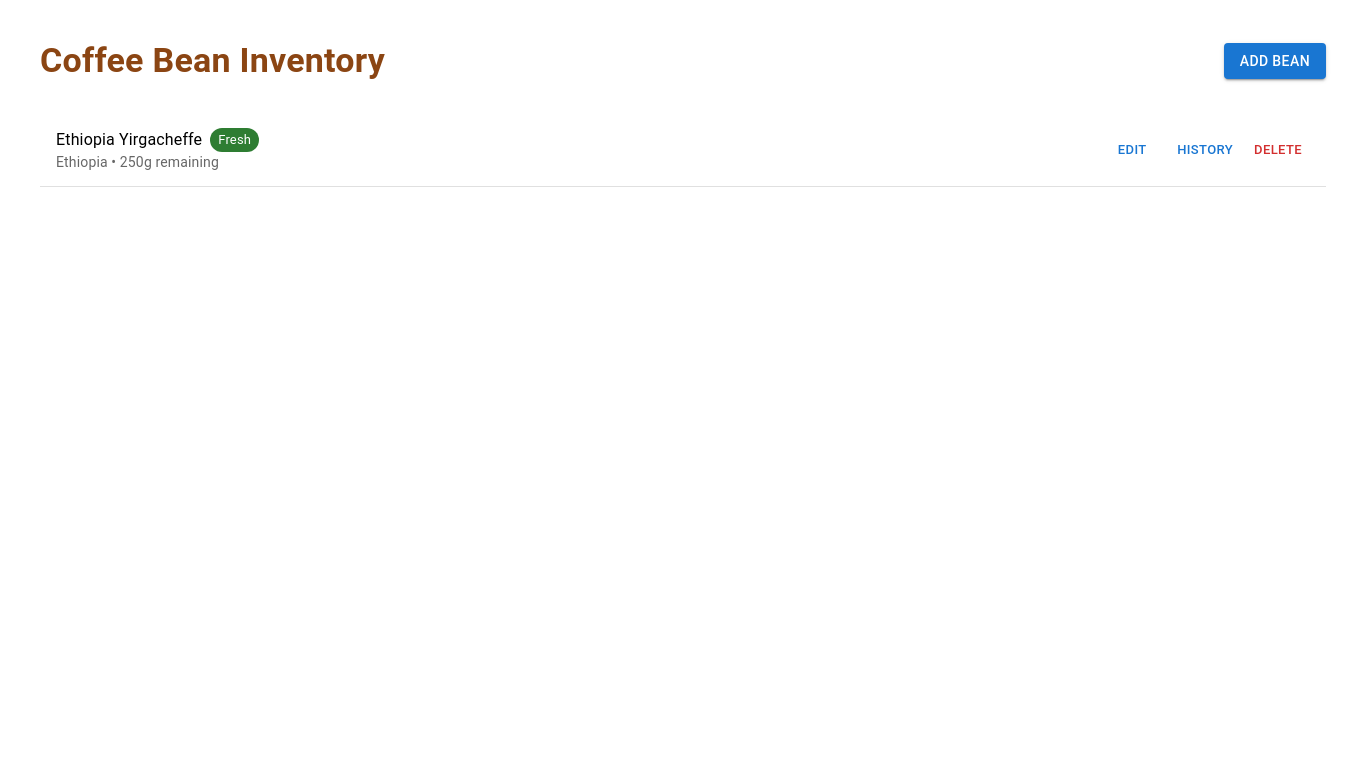
Test: BeanManager › closes the editor with Cancel
Check: the text "Ethiopia Yirgacheffe" is shown, box top-left (56, 128), bottom-right (202, 152)
Click the button "Edit" at (1132, 150), box top-left (1100, 135), bottom-right (1164, 165)
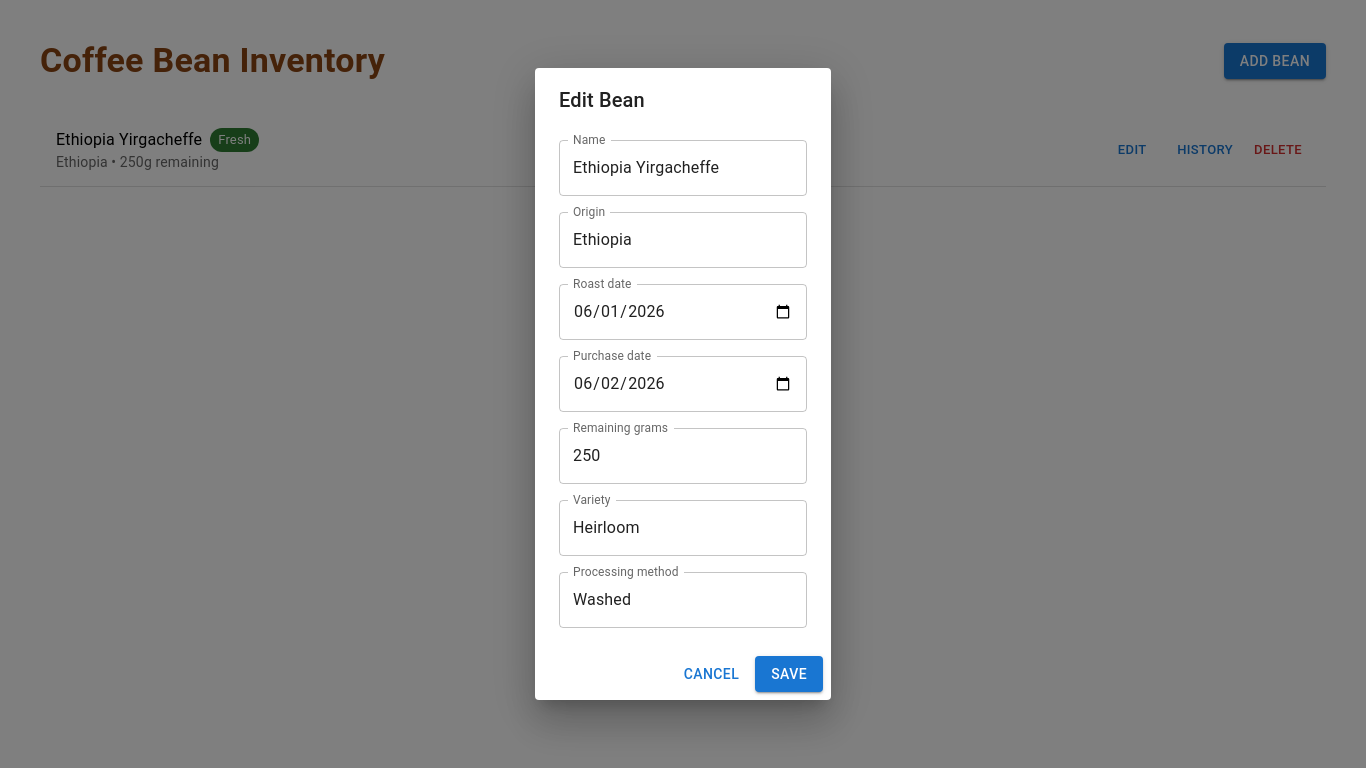
Check: the heading "Edit Bean" is shown, box top-left (559, 88), bottom-right (645, 112)
Click the button "Cancel" at (711, 674), box top-left (676, 656), bottom-right (747, 692)
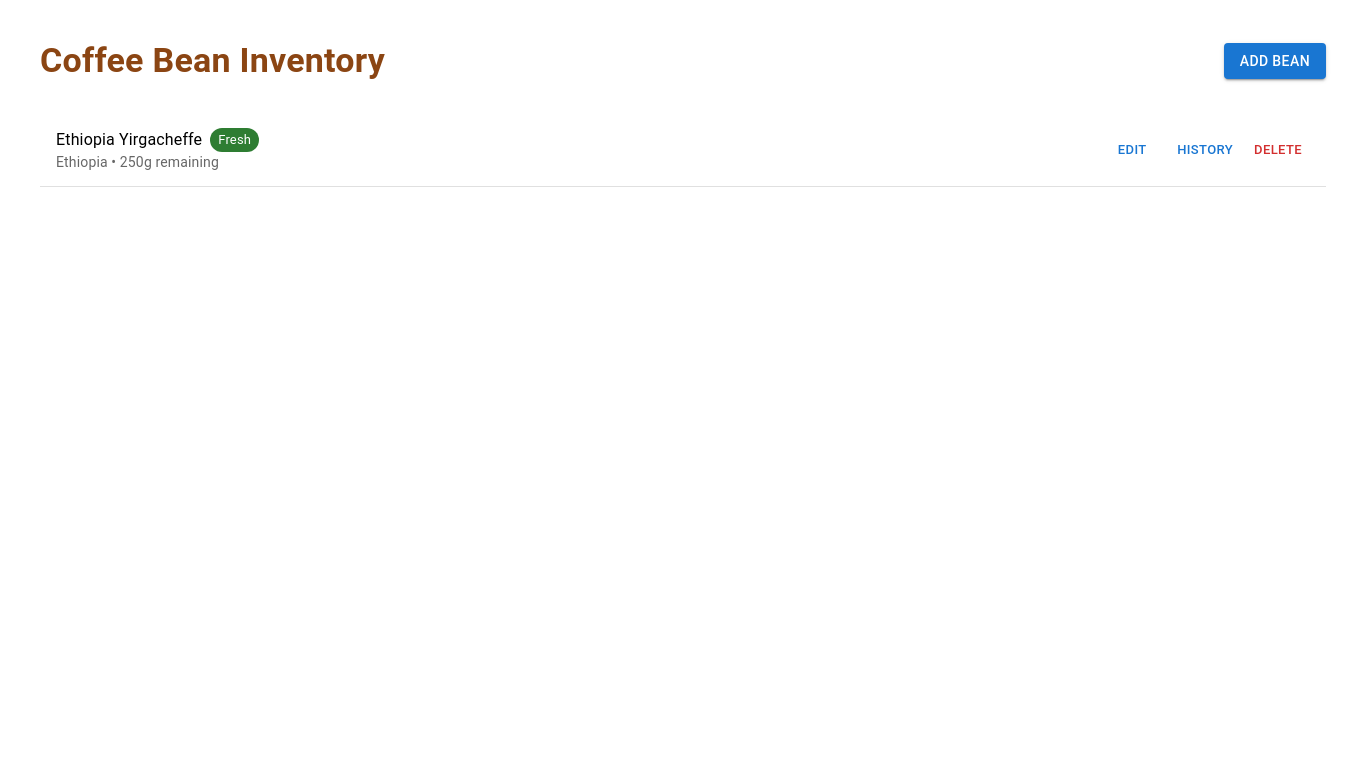
Check: the heading "Edit Bean" is gone
